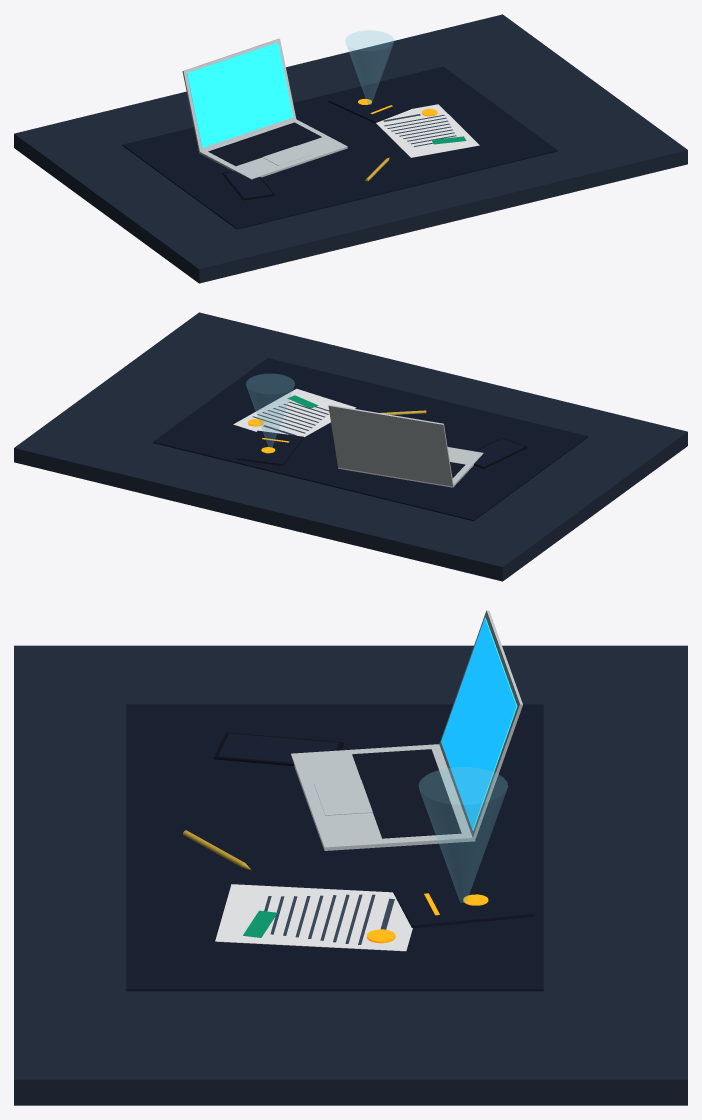
File: application_desk.glb
3 renders of one model, top to bottom at view 1: azimuth 30°, elevation 25°; view 2: azimuth 150°, elevation 25°; view 3: azimuth 270°, elevation 25°, orthographic. The views are drawn at different scales.
Bounding box in the file's own units: 6.4 × 1.12 × 4.2.
